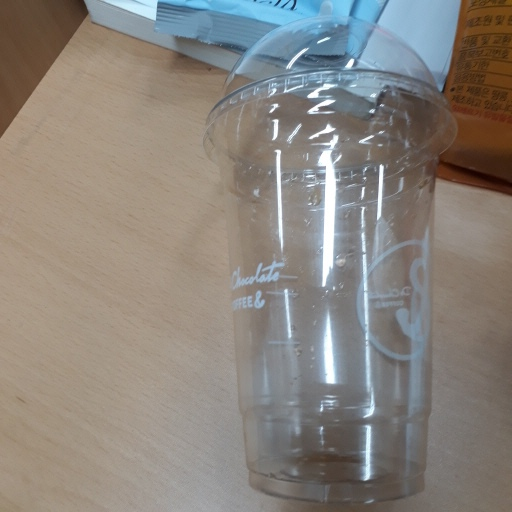Plastic_2: (203, 17, 457, 507)
